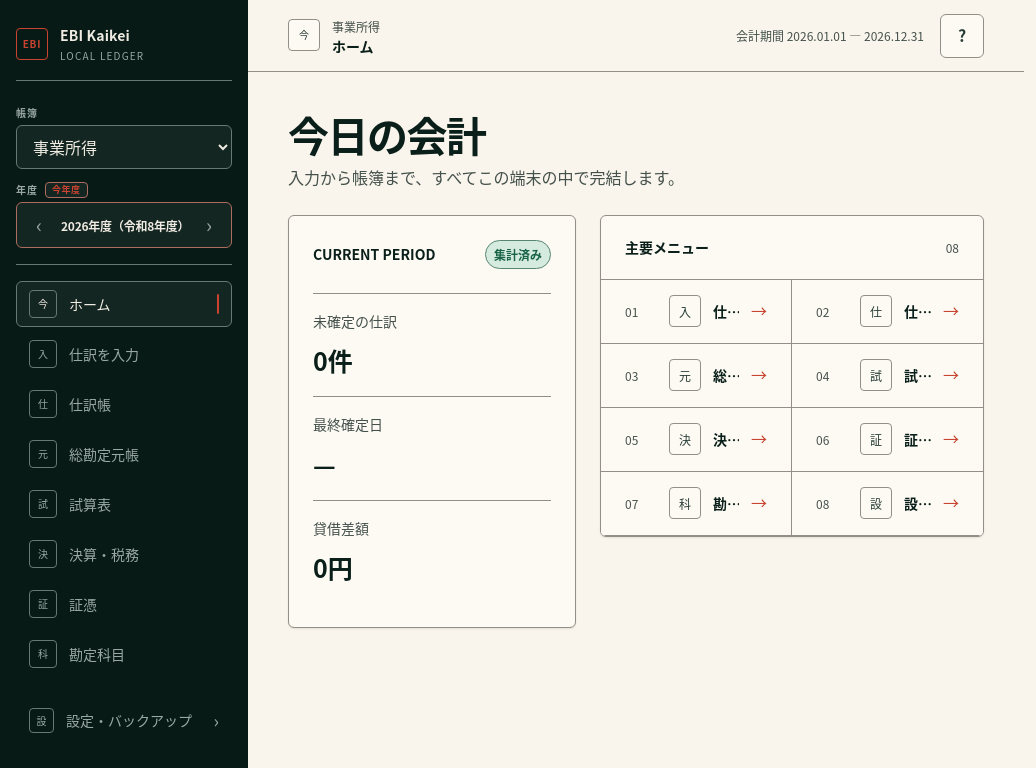
Scenario: App › サイドバーから合計残高試算表へ移動できる
Click the button "試 試算表" at (124, 504), box x1=16 y1=481 x2=232 y2=527
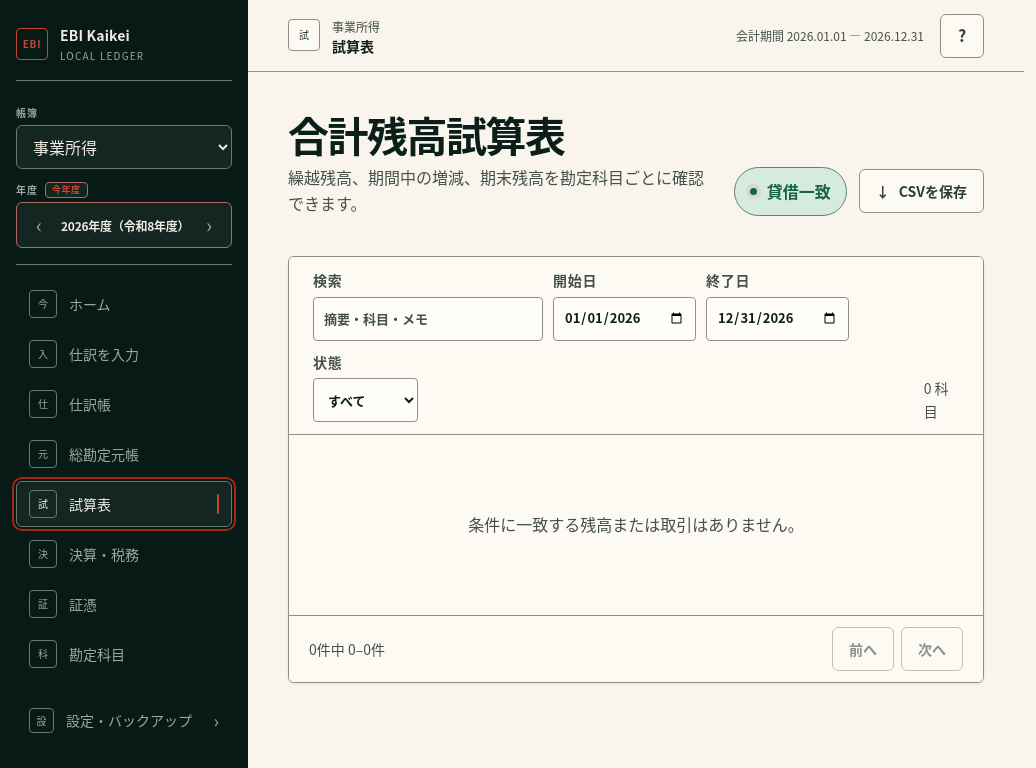
Check: the heading "合計残高試算表" is shown, box x1=288 y1=104 x2=565 y2=164
